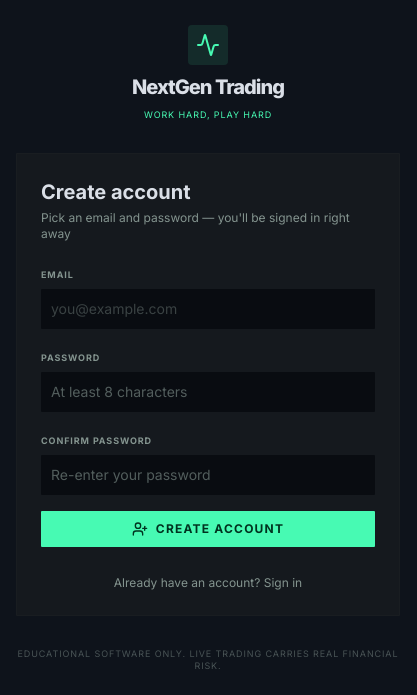
it: RegisterPage — Zod schema validation › shows error when password is too short (< 8 characters)
Step 1. Type "a@b.com" into the field labelled "Email" → (208, 308), box [41, 288, 375, 328]
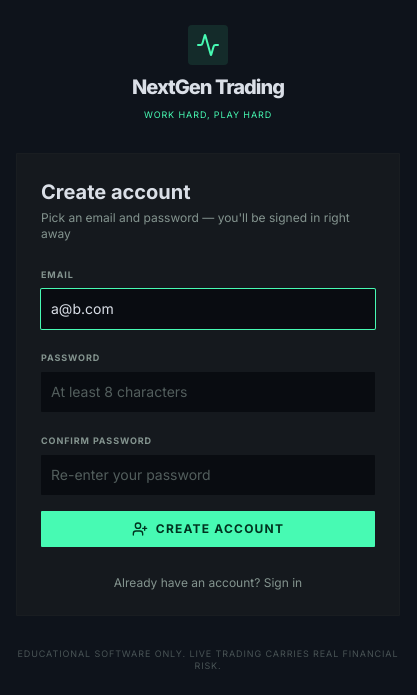
Step 2. Type "short" into the password field labelled "Password" → (208, 392), box [41, 372, 375, 412]
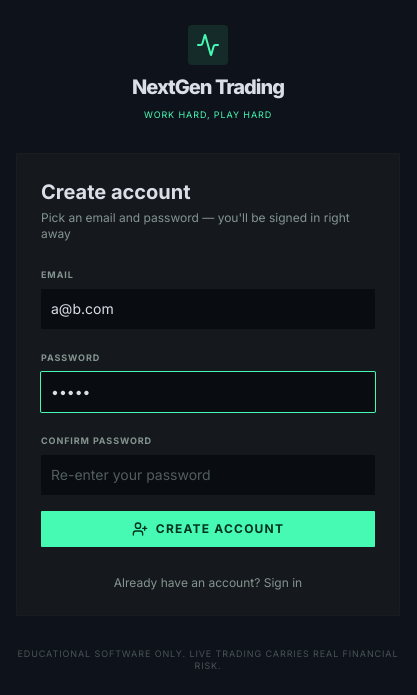
Step 3. Type "short" into the password field labelled "Confirm Password" → (208, 474), box [41, 454, 375, 494]
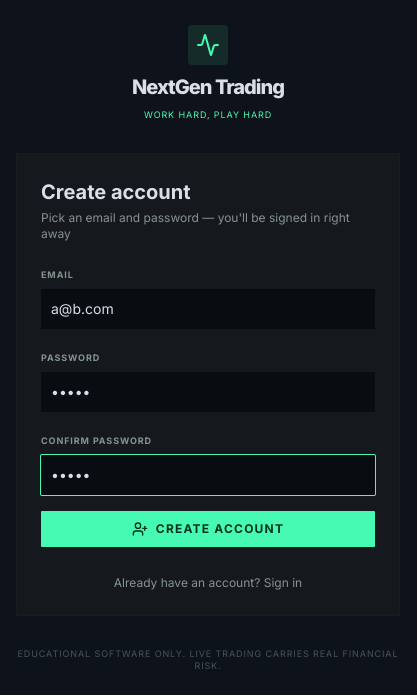
Step 4. Click the button "Create account" → (208, 528), box [41, 510, 375, 546]
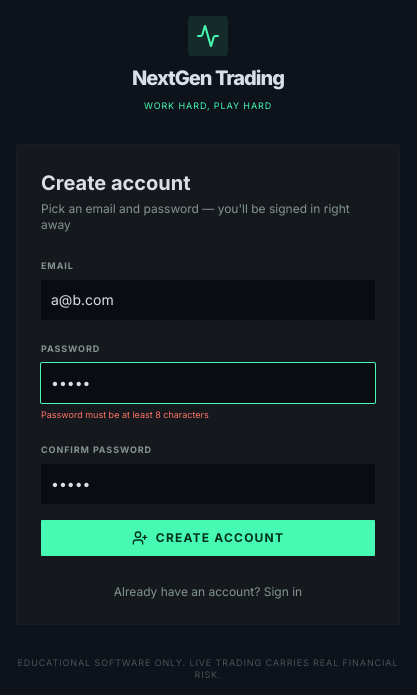
Expected: the text "Password must be at least 8 characters" is shown, [41, 408, 209, 420]
